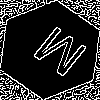M: (24, 25, 90, 86)
